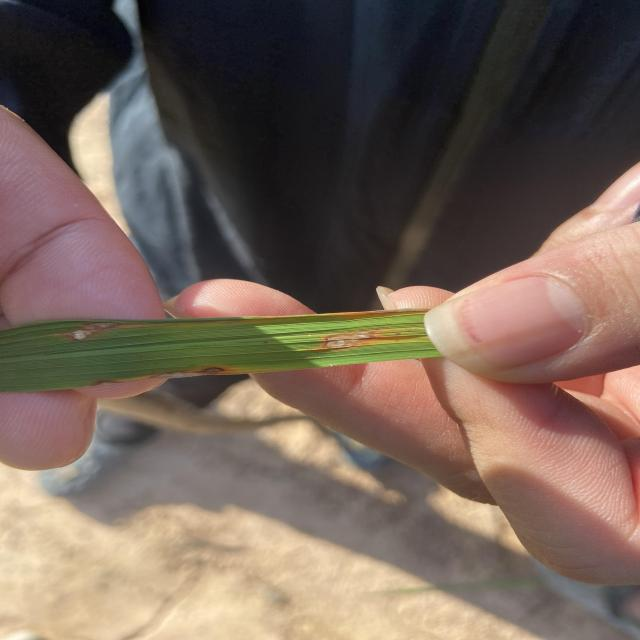Dao on: (314, 329, 377, 349), (129, 371, 204, 381), (66, 329, 99, 342), (86, 321, 126, 329), (92, 380, 123, 386), (203, 367, 225, 372)
